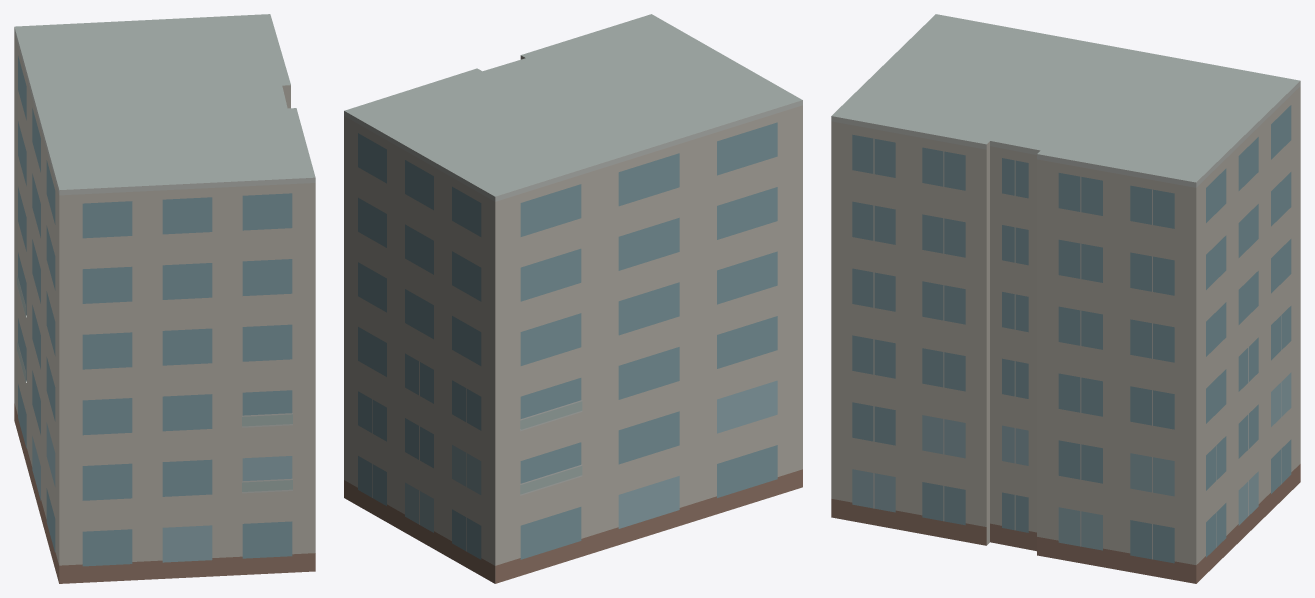
The model's file is survey-upis-32953904.glb.
The picture shows the model from 3 angles, left to right: view 1: azimuth 30°, elevation 25°; view 2: azimuth 150°, elevation 25°; view 3: azimuth 270°, elevation 25°; orthographic projection. The views are drawn at different scales.
Parts seen in each view (by area): view 1: survey-upis-32953904.tmp; view 2: survey-upis-32953904.tmp; view 3: survey-upis-32953904.tmp.
Part boxes in pixels (box(x1,y1,x2,y2)): survey-upis-32953904.tmp: box(14, 14, 315, 583); survey-upis-32953904.tmp: box(344, 14, 802, 583); survey-upis-32953904.tmp: box(831, 14, 1300, 583).
Size of the model in its own units: 16.49 by 18.3 by 19.4.
